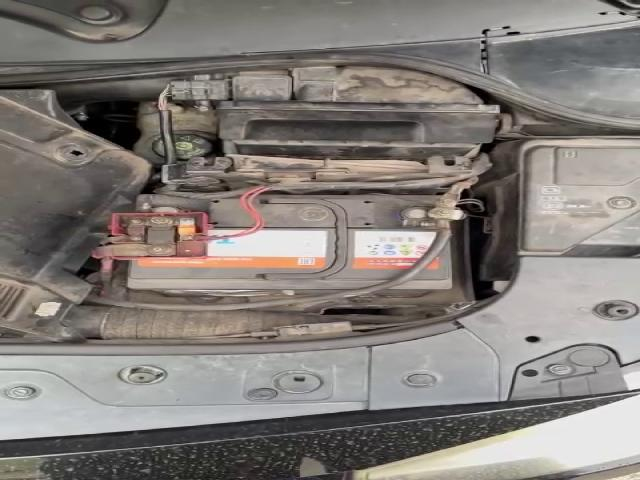accumulator: (107, 195, 450, 297)
fuse_box: (520, 146, 640, 251)
